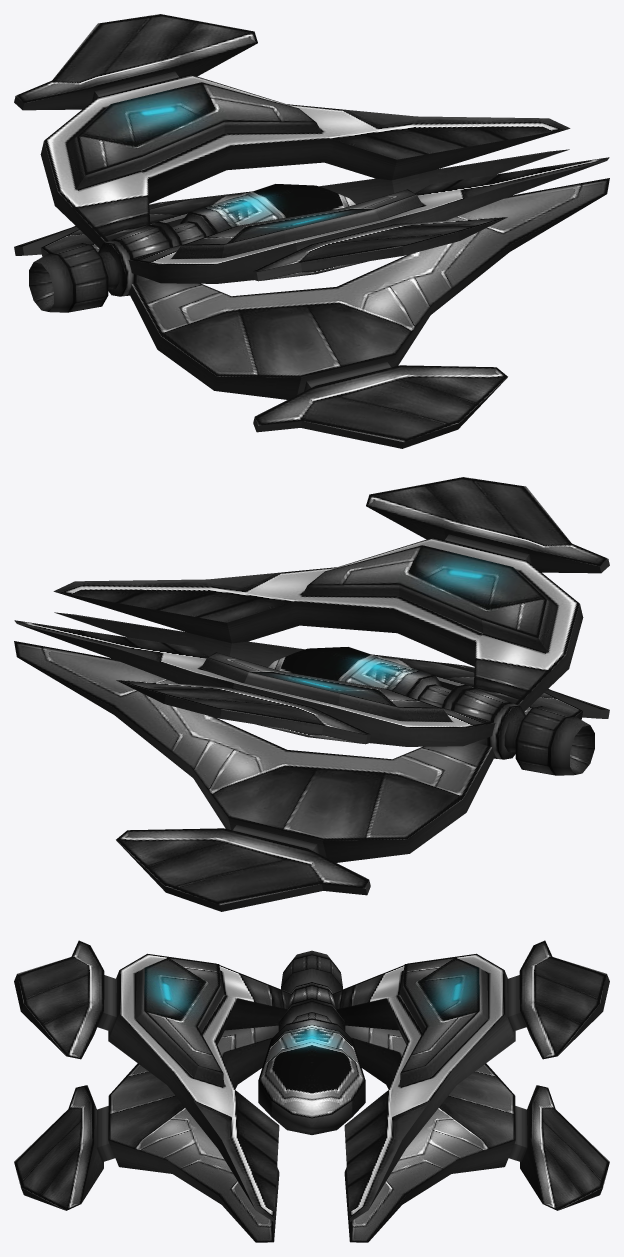
Rendered from ship_5.FBX.
3 views of the same model, one above another, from view 1: azimuth 30°, elevation 25°; view 2: azimuth 150°, elevation 25°; view 3: azimuth 270°, elevation 25° (orthographic). The views are drawn at different scales.
Visible parts, largest first — view 1: ship5; view 2: ship5; view 3: ship5.
Boxes of the visible parts, <box> form: ship5: <box>14,14,609,448</box>; ship5: <box>14,477,609,911</box>; ship5: <box>14,940,609,1242</box>.
Bounding box in the file's own units: 98.05 × 34.53 × 95.28.
1 material, 1 textured.
